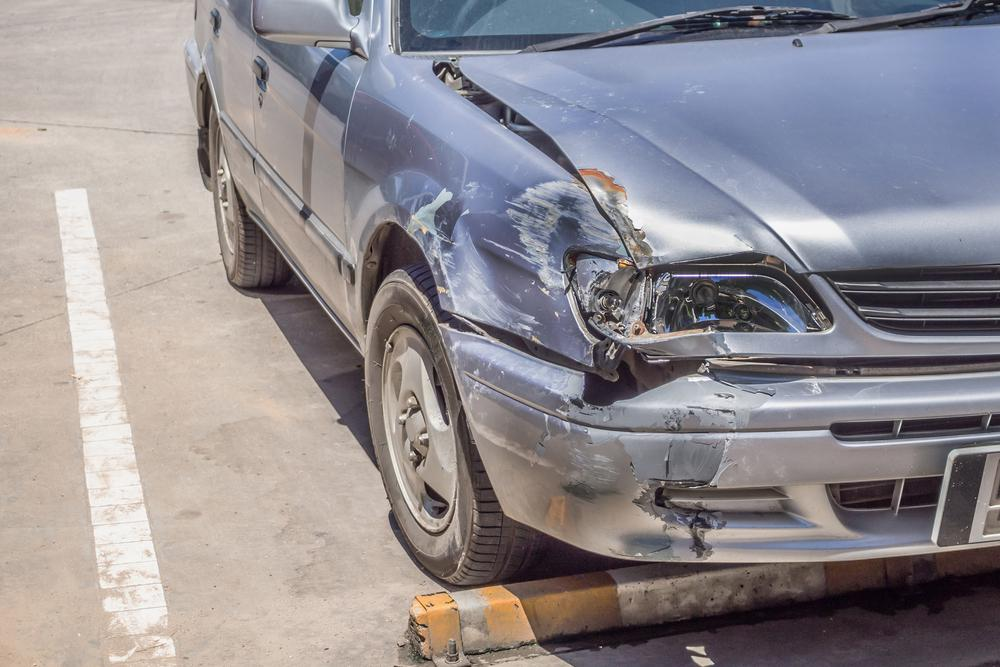crack: (604, 467, 721, 559)
dent: (428, 181, 615, 341), (582, 165, 739, 264)
lamp broken: (580, 255, 827, 338)
scratch: (537, 396, 630, 501)
